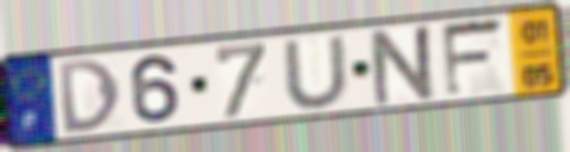6: (128, 52, 184, 126)
7: (212, 41, 269, 121)
D: (54, 56, 124, 137)
F: (438, 14, 509, 101)
N: (369, 20, 441, 109)
U: (279, 32, 354, 112)
